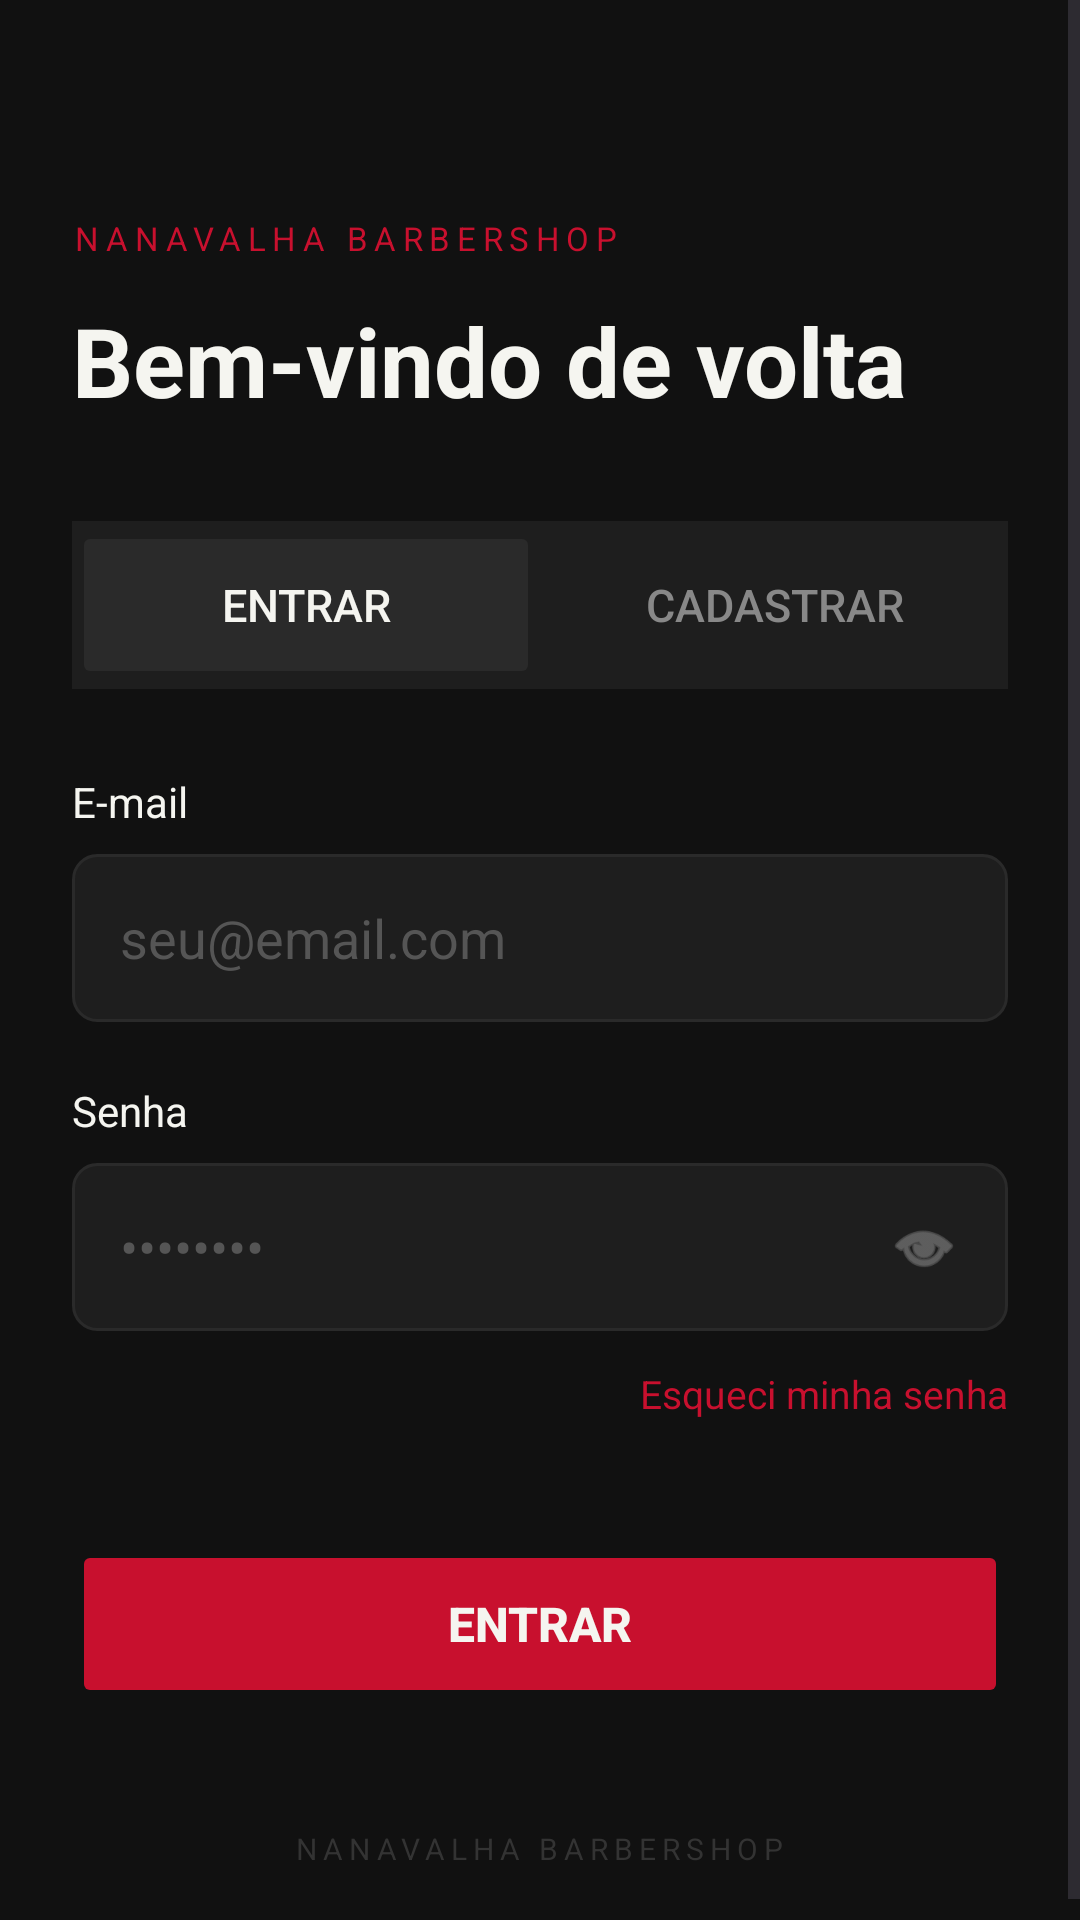

Locate icon controls on the screen. Image size 1080px×1920px, boxes as (x1, y1, x2, y2).
view: (895, 1231, 953, 1267)
